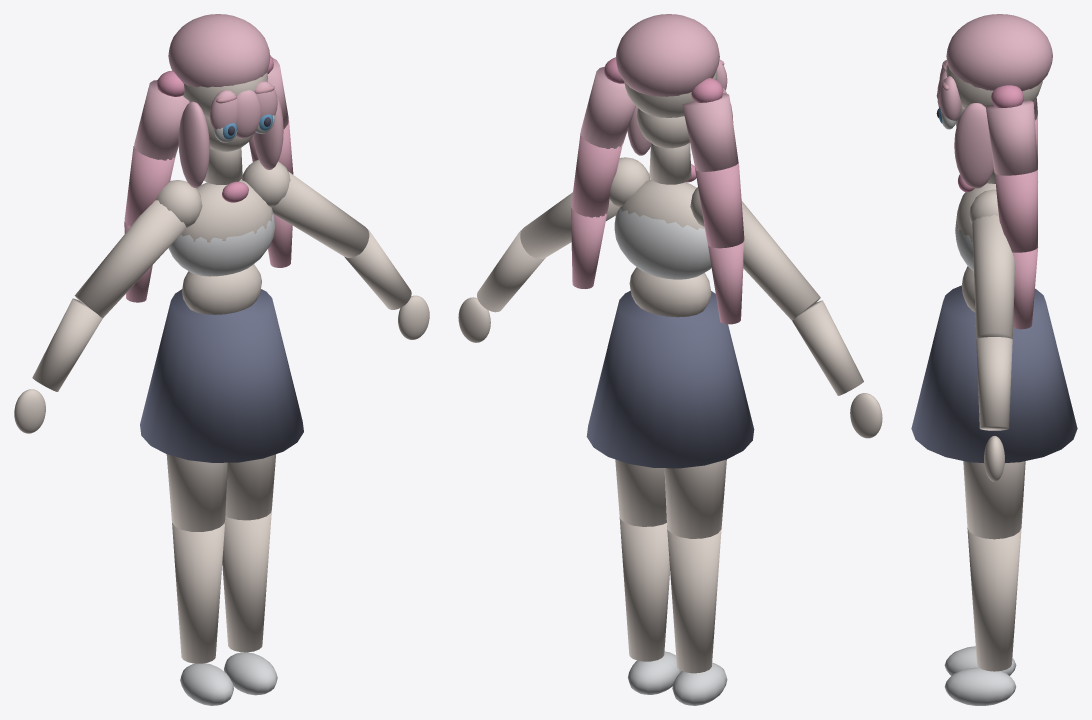
File: anime-aiva.glb
3 renders of one model, left to right at view 1: azimuth 30°, elevation 25°; view 2: azimuth 150°, elevation 25°; view 3: azimuth 270°, elevation 25°, orthographic. The views are drawn at different scales.
Visible parts, largest first — view 1: Body, Outfit, Hair, Eyes; view 2: Body, Outfit, Hair; view 3: Body, Outfit, Hair, Eyes.
Boxes of the visible parts, x1,y1,x2,y2 form: Body: (14, 72, 429, 663); Outfit: (140, 181, 303, 705); Hair: (124, 14, 293, 302); Eyes: (214, 85, 275, 142); Body: (458, 70, 882, 673); Outfit: (586, 164, 754, 705); Hair: (571, 14, 744, 324); Body: (946, 64, 1042, 671); Outfit: (911, 174, 1077, 705); Hair: (937, 14, 1052, 329); Eyes: (936, 60, 956, 129).
Bounding box in the file's own units: 1.1 × 1.7 × 0.38.
